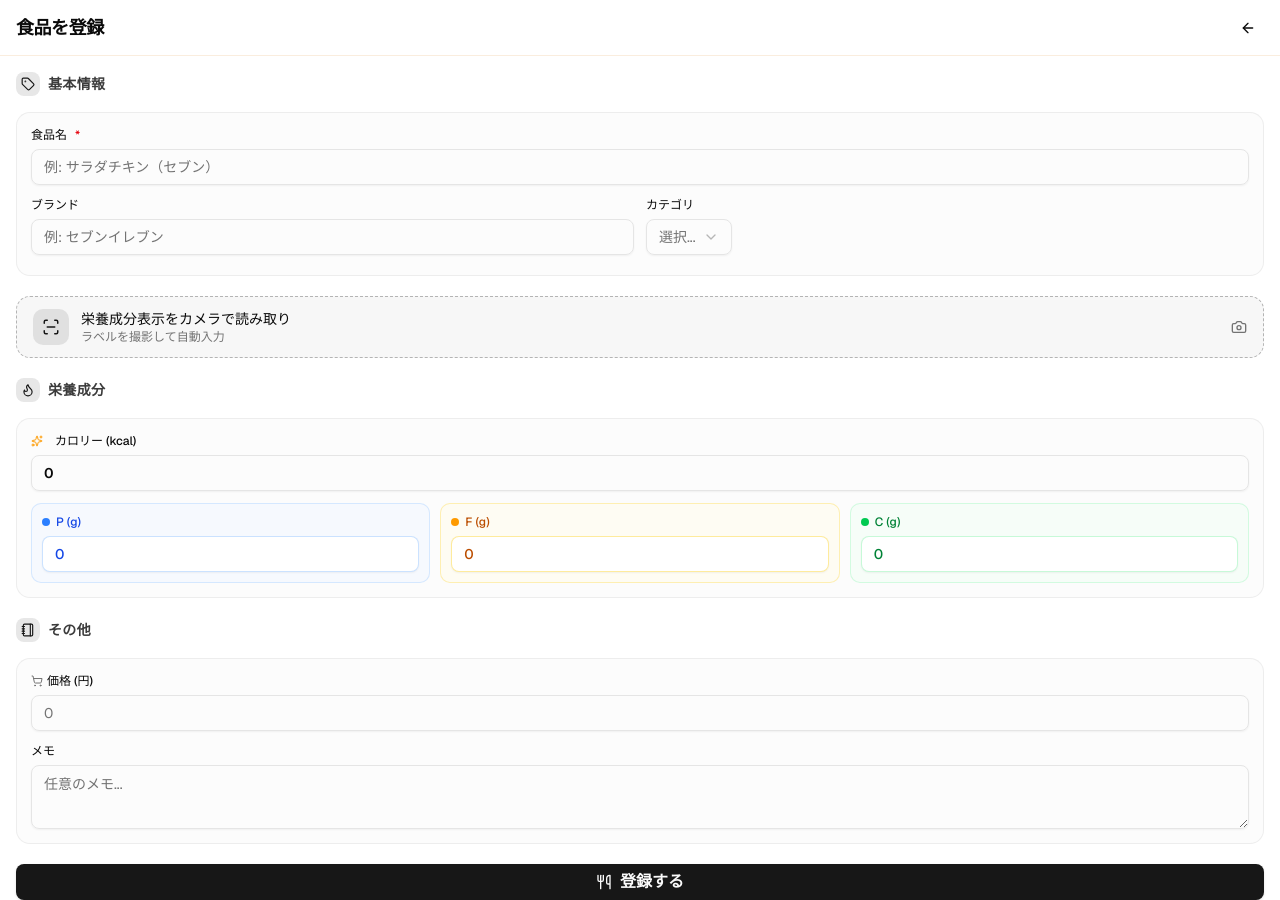
Test: FoodMasterFormView (S-08a 食品マスタ登録/編集) › 新規 › S-08a: 「栄養成分表示をカメラで読み取り」で、撮影の画面が開く
expect the heading "栄養表を撮影" is not shown: met
Step 1. Click the button "栄養成分表示をカメラで読み取り ラベルを撮影して自動入力" → [51, 327], box [16, 296, 1264, 358]
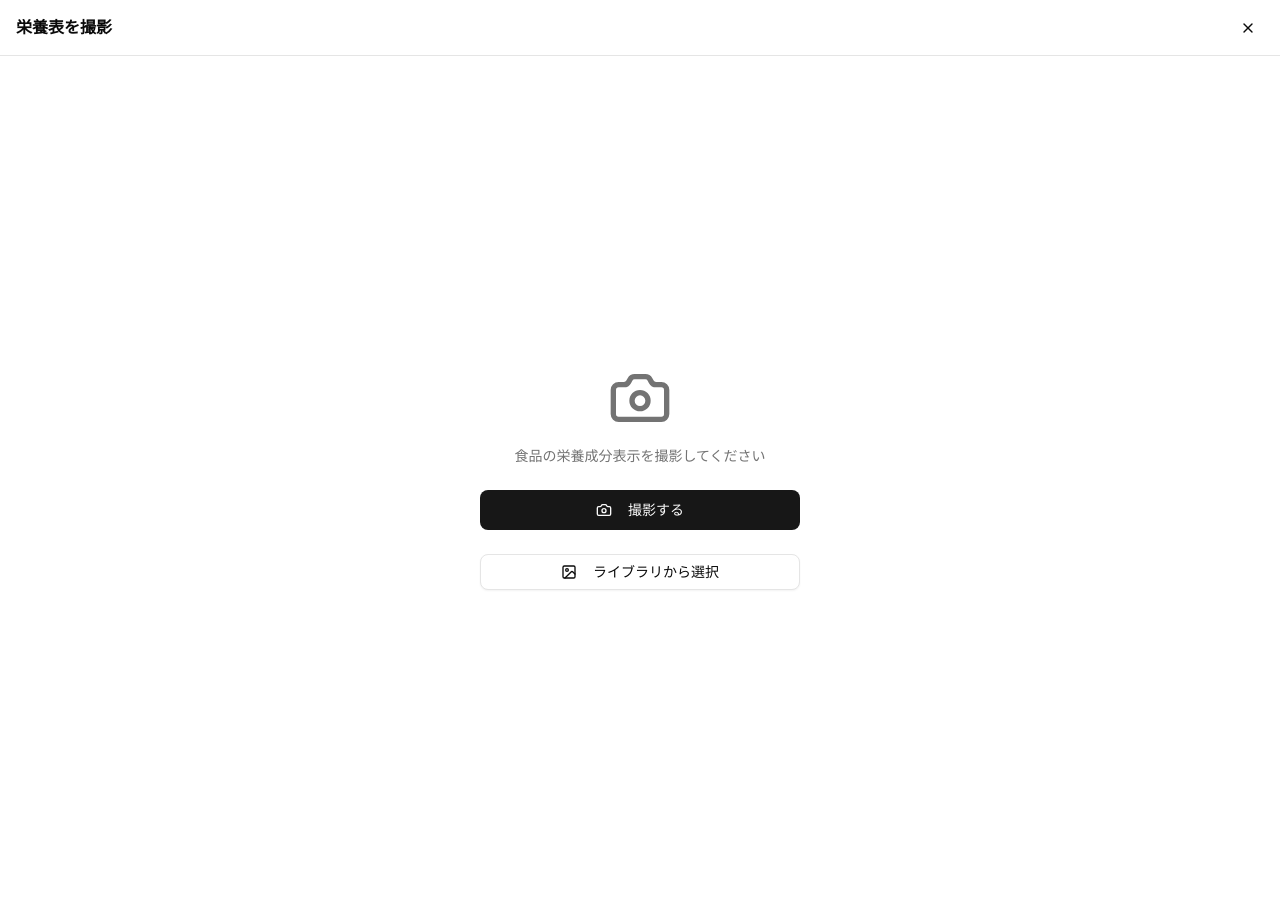
expect the heading "栄養表を撮影" is shown: met, box [16, 16, 112, 40]
